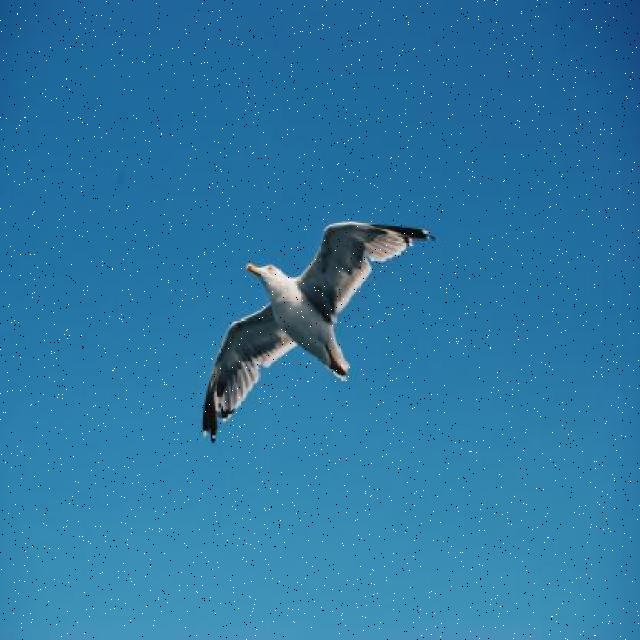bird: (203, 222, 437, 444)
